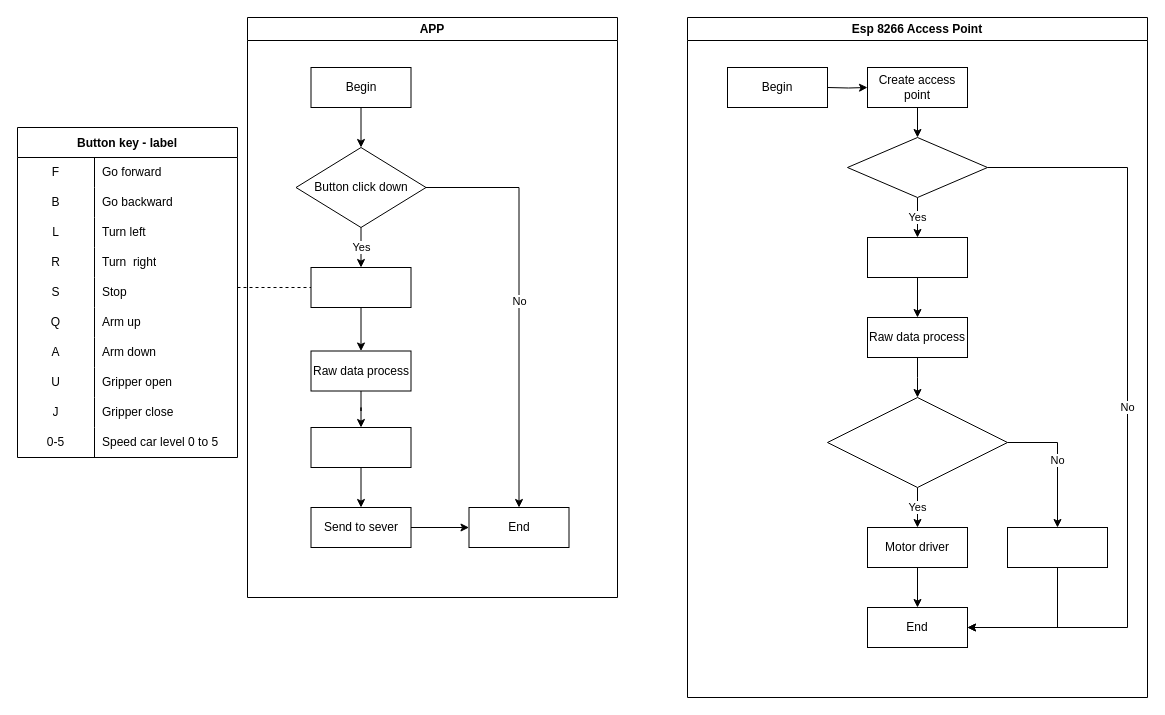
This 1165x715 diagram has some shape labels left out. Each missing label, with the centre of its shape:
"Get data from sever" goes at (x=917, y=257).
"Identify the button" goes at (x=360, y=287).
"Servo" goes at (x=1057, y=547).
"Sever available?" goes at (x=917, y=167).
"The incoming signal is to control the motor?" goes at (x=917, y=442).
"URL" goes at (x=360, y=447).
